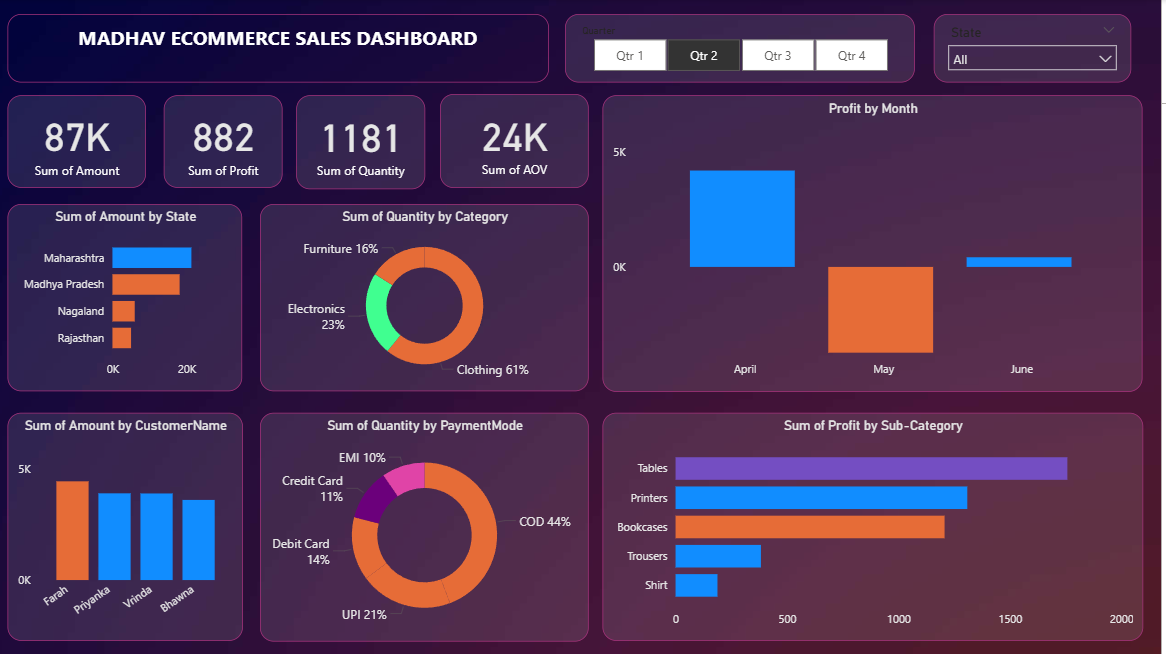

Layout of this report page (visuals, bound fields, positions):
{"tool":"powerbi","page":{"name":"Page 1","canvas":[1280,720],"ordinal":0},"visuals":[{"type":"textbox","box":[13.7,16.5,594.2,75.5],"z":0},{"type":"columnChart","title":"Profit by Month","fields":{"Category":["Orders.Order Date.Variation.Date Hierarchy.Month"],"Y":["Details.Profit"]},"box":[666.9,105.7,592.8,325.2],"z":1000},{"type":"barChart","fields":{"Category":["Details.Sub-Category"],"Y":["Details.Profit"]},"box":[666.8,454.2,593.3,250.5],"z":2000},{"type":"donutChart","fields":{"Category":["Details.Category"],"Y":["Details.Quantity"]},"box":[290.9,225,360.9,205.8],"z":3000},{"type":"donutChart","fields":{"Y":["Details.Quantity"],"Category":["Details.PaymentMode"]},"box":[290.5,454.2,360.7,251.6],"z":4000},{"type":"card","fields":{"Values":["Details.Amount"]},"box":[13.7,105.7,152.3,101.5],"z":5000},{"type":"card","fields":{"Values":["Details.Quantity"]},"box":[330.7,105.7,141.3,102.9],"z":6000},{"type":"card","fields":{"Values":["Details.Profit"]},"box":[185.2,105.7,130.4,101.5],"z":7000},{"type":"card","fields":{"Values":["Details.AOV"]},"box":[488.5,104.3,163.3,102.9],"z":8000},{"type":"barChart","fields":{"Y":["Details.Amount"],"Category":["Orders.State"]},"box":[13.7,225,258,205.8],"z":9000},{"type":"columnChart","fields":{"Category":["Orders.CustomerName"],"Y":["Details.Amount"]},"box":[13.4,454.2,258.3,250.5],"z":10000},{"type":"slicer","fields":{"Values":["Orders.Order Date.Variation.Date Hierarchy.Quarter"]},"box":[625.7,16.5,384.2,75.5],"z":11000},{"type":"slicer","fields":{"Values":["Orders.State"]},"box":[1030.5,16.5,216.8,75.5],"z":12000}]}

Visuals, with their boxes in screenshot pixels (x1, y1, x2, y2), scaled from the page's 1280x720 canvas onto the 1166x654 screenshot:
textbox: bbox=(12, 15, 554, 84)
"Profit by Month" columnChart: bbox=(608, 96, 1148, 391)
barChart - Details.Sub-Category x Details.Profit: bbox=(607, 413, 1148, 640)
donutChart - Details.Category x Details.Quantity: bbox=(265, 204, 594, 391)
donutChart - Details.Quantity x Details.PaymentMode: bbox=(265, 413, 593, 641)
card - Details.Amount: bbox=(12, 96, 151, 188)
card - Details.Quantity: bbox=(301, 96, 430, 189)
card - Details.Profit: bbox=(169, 96, 287, 188)
card - Details.AOV: bbox=(445, 95, 594, 188)
barChart - Details.Amount x Orders.State: bbox=(12, 204, 248, 391)
columnChart - Orders.CustomerName x Details.Amount: bbox=(12, 413, 248, 640)
slicer - Orders.Order Date.Variation.Date Hierarchy.Quarter: bbox=(570, 15, 920, 84)
slicer - Orders.State: bbox=(939, 15, 1136, 84)
